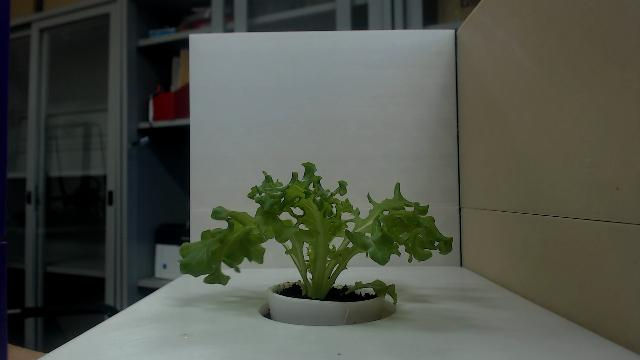Vegetative Stage: (178, 160, 454, 306)
